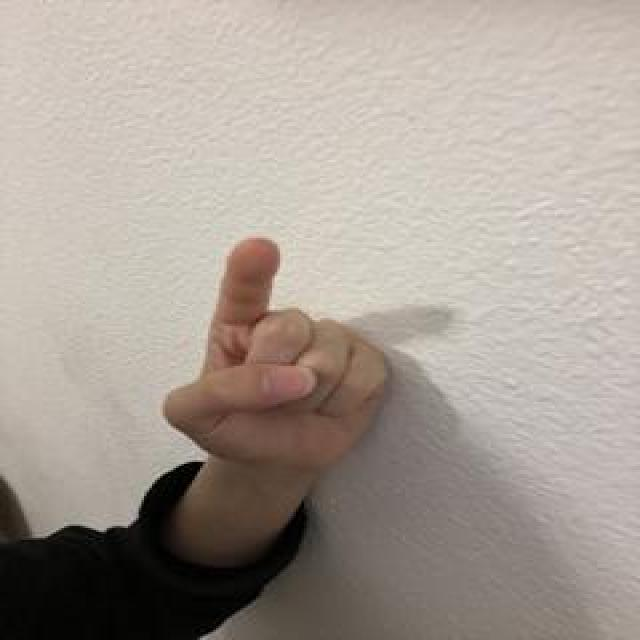Z: (154, 231, 402, 475)
